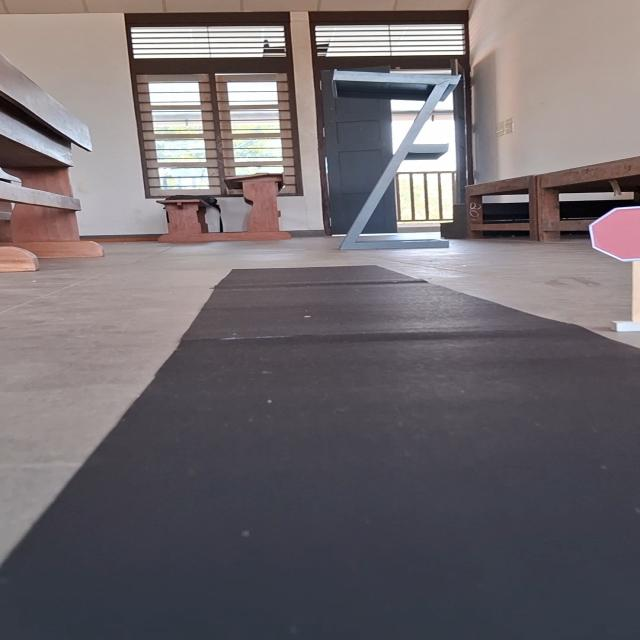Stop: (589, 204, 640, 262)
